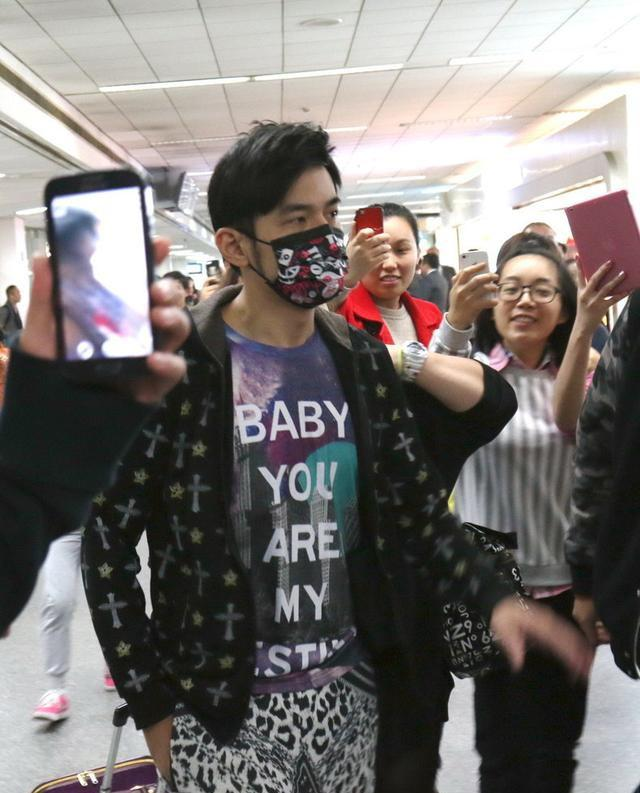NONE: (499, 274, 558, 341), (365, 231, 420, 296)
OK: (244, 192, 354, 302)
